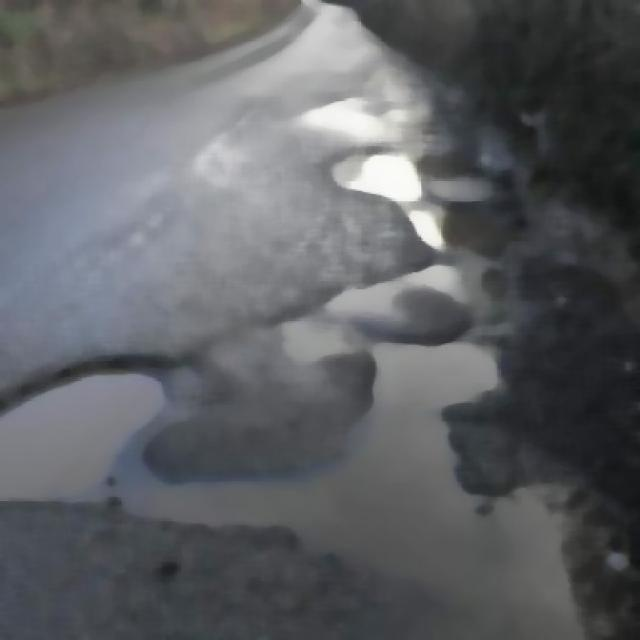Pothole: (336, 142, 602, 640), (0, 355, 140, 510), (143, 453, 332, 553)
